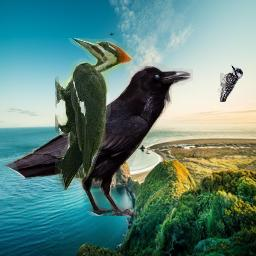Crow: (3, 61, 193, 216)
Woodpecker: (55, 38, 133, 190), (213, 64, 243, 102)
